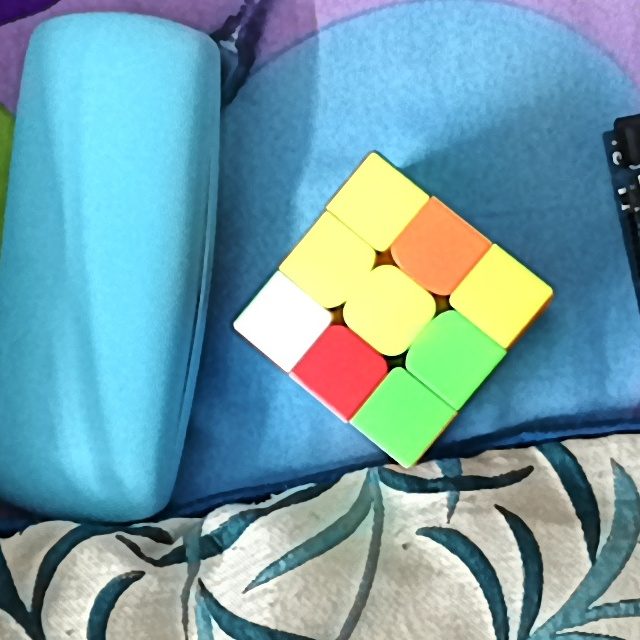tile: (413, 223, 467, 278), (425, 326, 480, 380), (317, 342, 367, 398), (257, 293, 309, 345), (360, 282, 411, 334), (379, 395, 433, 444), (477, 268, 527, 319), (352, 181, 402, 227), (302, 240, 352, 286)
